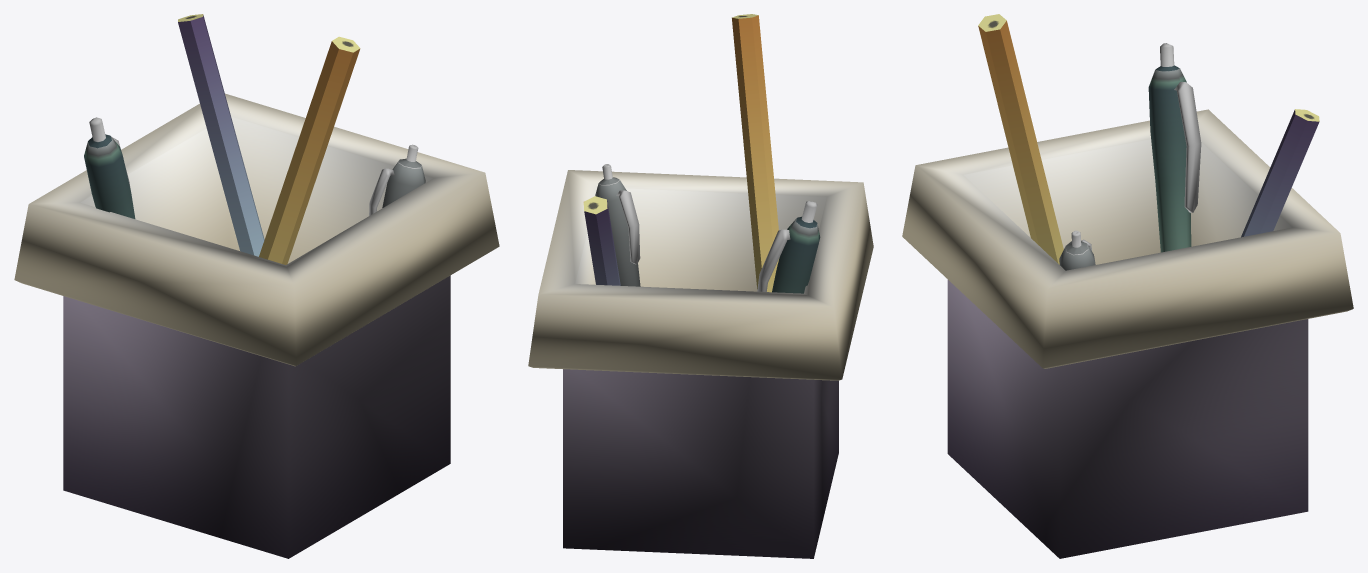
The model's file is mesh_pencilholder_LOD1.fbx.
3 views of the same model, side by side, from view 1: azimuth 30°, elevation 25°; view 2: azimuth 150°, elevation 25°; view 3: azimuth 270°, elevation 25° (orthographic). The views are drawn at different scales.
Parts seen in each view (by area): view 1: pencilholder.001; view 2: pencilholder.001; view 3: pencilholder.001.
Boxes of the visible parts, x1,y1,x2,y2 form: pencilholder.001: [14, 14, 499, 558]; pencilholder.001: [528, 14, 873, 558]; pencilholder.001: [902, 14, 1353, 558].
Bounding box in the file's own units: 33.23 × 38.42 × 33.23.
